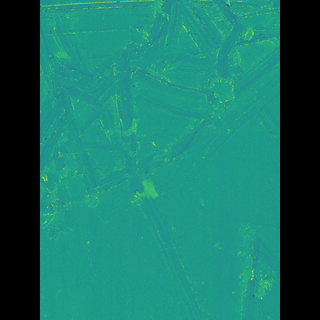Loch: (68, 0, 250, 233), (141, 188, 199, 320), (213, 220, 249, 320)
